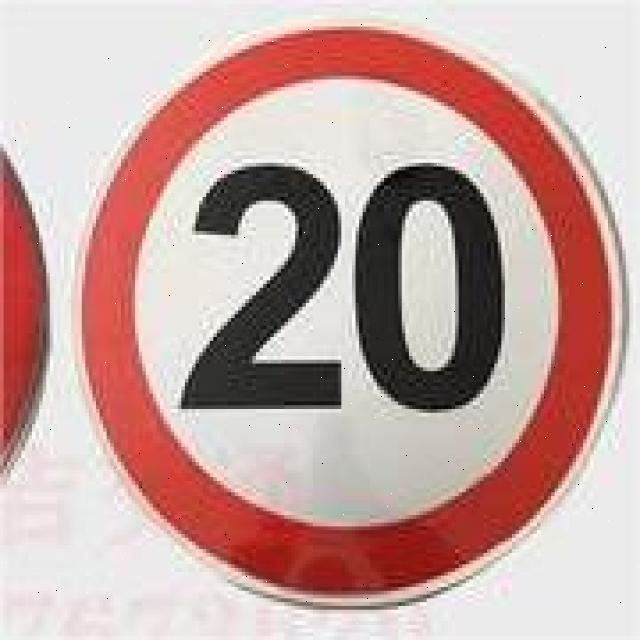speed limit 20: (74, 26, 627, 611)
